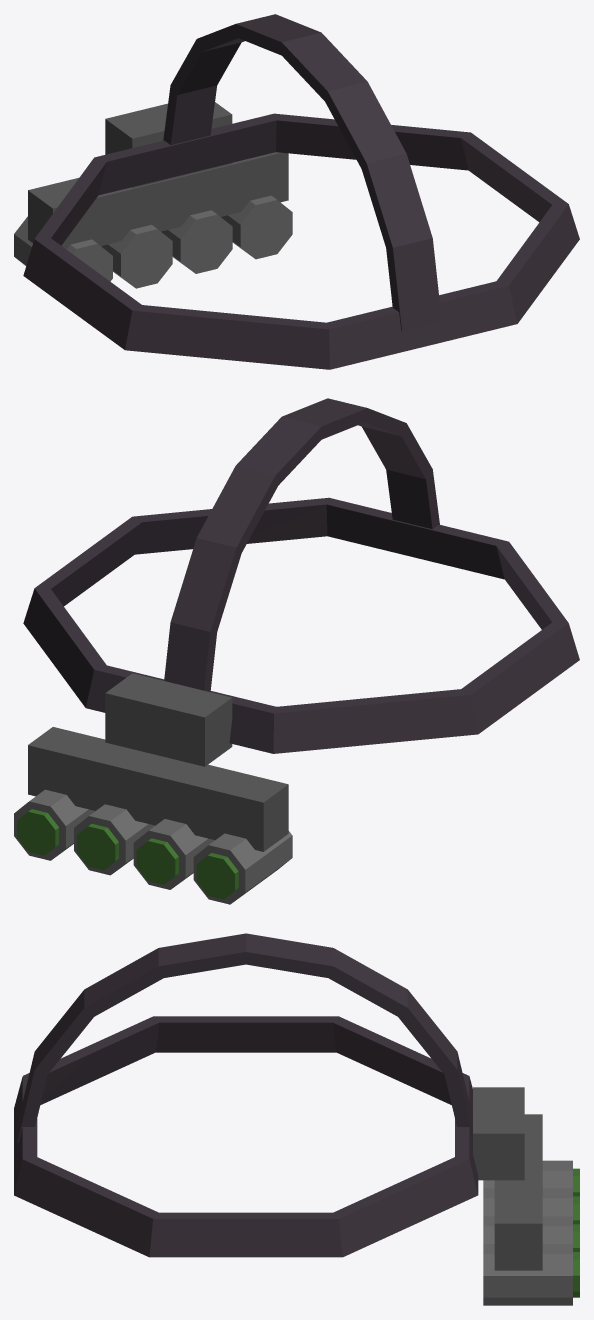
The model's file is ce_gear_nv_advanced.obj.
3 views of the same model, one above another, from view 1: azimuth 30°, elevation 25°; view 2: azimuth 150°, elevation 25°; view 3: azimuth 270°, elevation 25° (orthographic). The views are drawn at different scales.
Bounding box in the file's own units: 0.5018 × 0.3506 × 0.5687.
